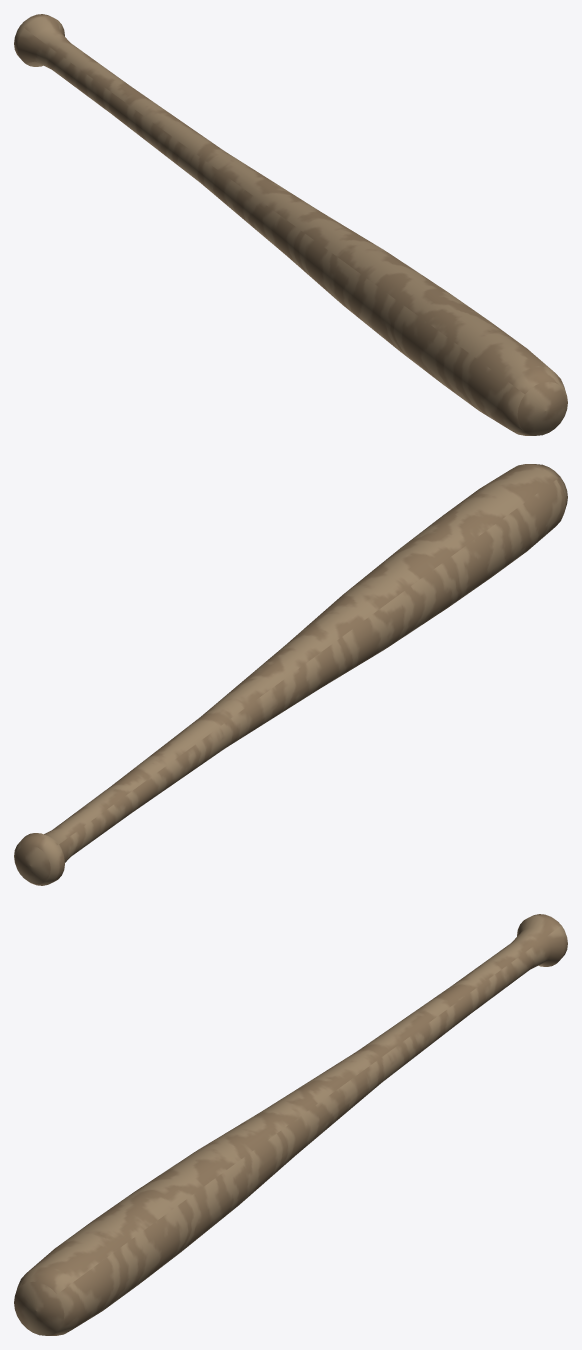
The model's file is PRP_BaseballBat.fbx.
The picture shows the model from 3 angles, top to bottom: view 1: azimuth 30°, elevation 25°; view 2: azimuth 150°, elevation 25°; view 3: azimuth 330°, elevation 25°; orthographic projection.
Visible parts, largest first — view 1: PRP_BaseballBat; view 2: PRP_BaseballBat; view 3: PRP_BaseballBat.
Part boxes in pixels (x1,y1,x2,y2): PRP_BaseballBat: (14,14,567,435); PRP_BaseballBat: (14,464,567,885); PRP_BaseballBat: (14,914,567,1335).
Size of the model in its own units: 6.5 by 6.5 by 85.
